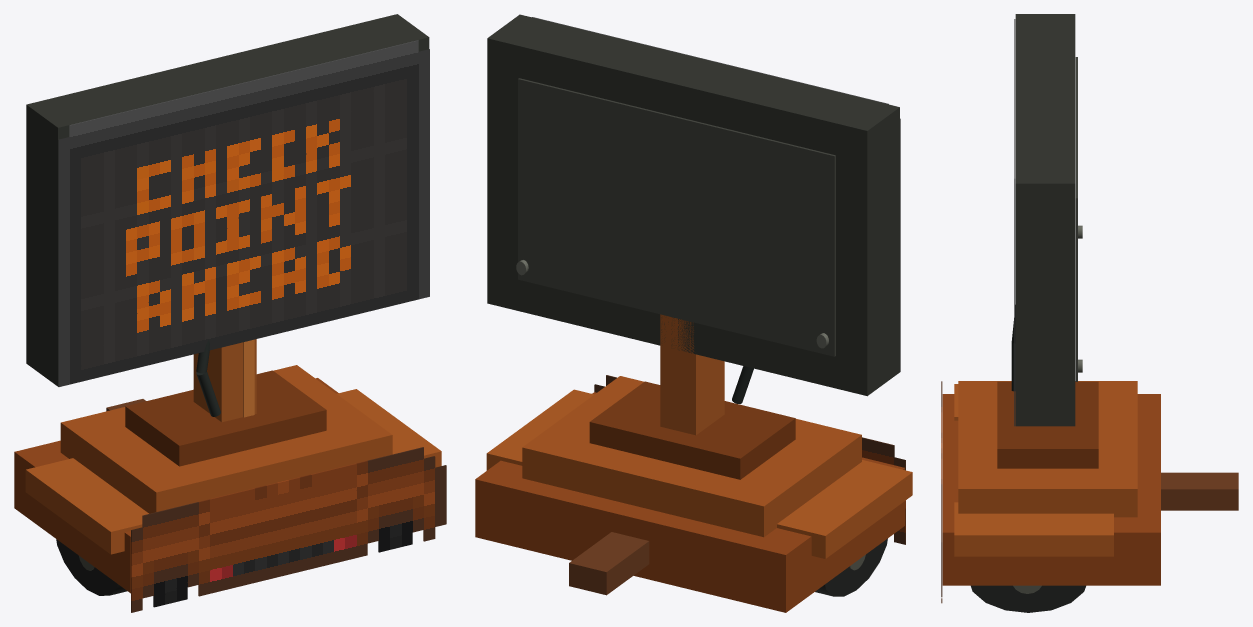
File: CMU3DTrafficDirector2D0Cloud.glb
3 renders of one model, left to right at view 1: azimuth 30°, elevation 25°; view 2: azimuth 150°, elevation 25°; view 3: azimuth 270°, elevation 25°, orthographic. The views are drawn at different scales.
Visible parts, largest first — view 1: exact source message and border, source directional orange chassis and lights, thick dark sign cabinet, upper sloping orange housing, central mast foot, orange fender (×2), deep orange trailer chassis, orange vertical mast, black trailer wheel, mast light edge; view 2: rear cabinet access hatch, thick dark sign cabinet, deep orange trailer chassis, upper sloping orange housing, central mast foot, orange fender (×2), orange vertical mast, trailer rear drawbeam, black trailer wheel, source directional orange chassis and lights, exact source message and border; view 3: thick dark sign cabinet, upper sloping orange housing, deep orange trailer chassis, orange fender, central mast foot, trailer rear drawbeam, black trailer wheel, rear cabinet access hatch, exact source message and border, source directional orange chassis and lights.
Boxes of the visible parts, left/top/right/bottom form: exact source message and border: left=58, top=40, right=429, bottom=386; source directional orange chassis and lights: left=131, top=447, right=446, bottom=612; thick dark sign cabinet: left=26, top=14, right=429, bottom=386; upper sloping orange housing: left=60, top=365, right=392, bottom=513; central mast foot: left=125, top=370, right=326, bottom=466; orange fender (×2): left=25, top=389, right=441, bottom=554; deep orange trailer chassis: left=14, top=378, right=338, bottom=593; orange vertical mast: left=193, top=339, right=256, bottom=422; black trailer wheel: left=56, top=539, right=127, bottom=595; mast light edge: left=243, top=339, right=254, bottom=417; rear cabinet access hatch: left=518, top=78, right=835, bottom=356; thick dark sign cabinet: left=487, top=14, right=899, bottom=396; deep orange trailer chassis: left=475, top=392, right=904, bottom=612; upper sloping orange housing: left=522, top=376, right=861, bottom=537; central mast foot: left=589, top=381, right=795, bottom=479; orange fender (×2): left=486, top=389, right=912, bottom=558; orange vertical mast: left=660, top=314, right=724, bottom=435; trailer rear drawbeam: left=569, top=532, right=649, bottom=595; black trailer wheel: left=815, top=538, right=887, bottom=596; source directional orange chassis and lights: left=594, top=375, right=905, bottom=544; exact source message and border: left=532, top=17, right=900, bottom=371; thick dark sign cabinet: left=1015, top=14, right=1075, bottom=426; upper sloping orange housing: left=958, top=381, right=1137, bottom=517; deep orange trailer chassis: left=942, top=394, right=1160, bottom=585; orange fender: left=954, top=502, right=1113, bottom=556; central mast foot: left=997, top=381, right=1098, bottom=468; trailer rear drawbeam: left=1161, top=472, right=1238, bottom=510; black trailer wheel: left=971, top=585, right=1085, bottom=612; rear cabinet access hatch: left=1075, top=57, right=1077, bottom=381; exact source message and border: left=1014, top=19, right=1015, bottom=426; source directional orange chassis and lights: left=941, top=381, right=942, bottom=603.
Bounding box in the file's own units: 1.03 × 1.26 × 0.764.
Materials: 15 (2 with a texture image).
